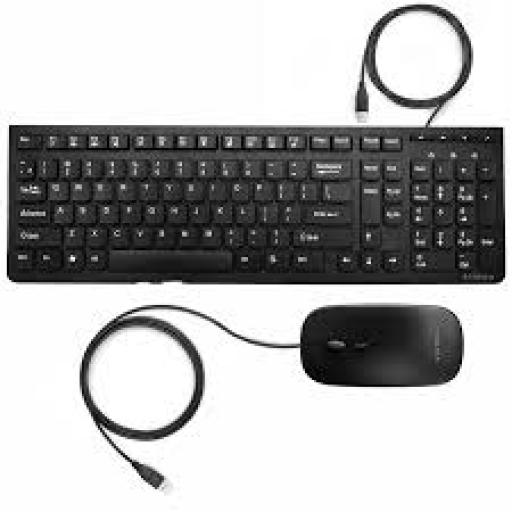KEYBOARD-2: (7, 127, 503, 280)
